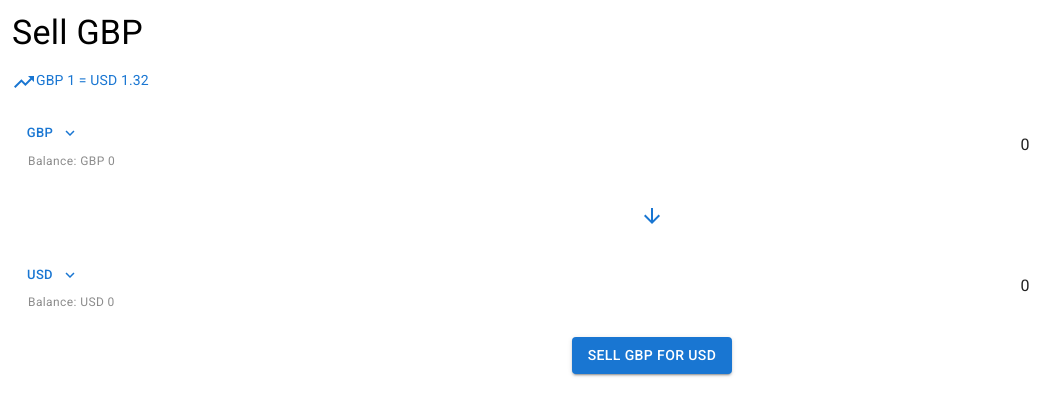
Test: should change trasaction type on arrow press
Expected: the heading with test id "header" shows "Sell", [12,12,143,52]
Click the button with test id "switch-currencies-button" at (652, 216), box [640,204,664,228]
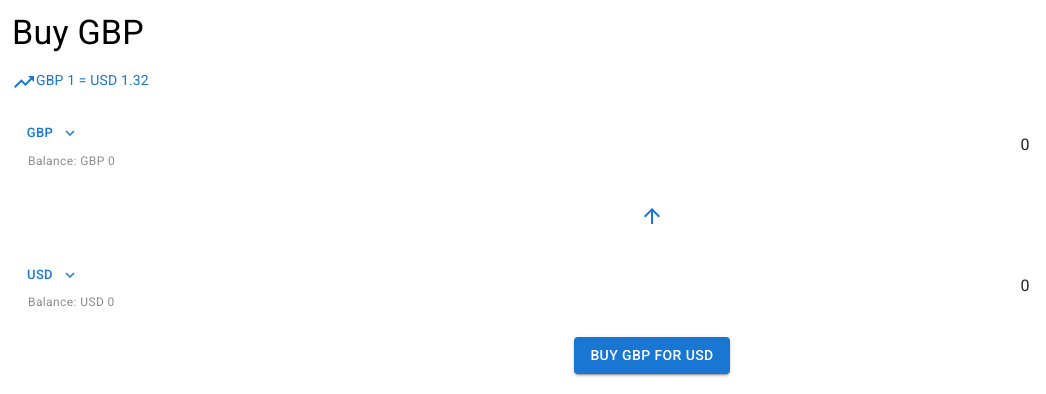
Now the heading with test id "header" shows "Buy", box [12,12,144,52]
